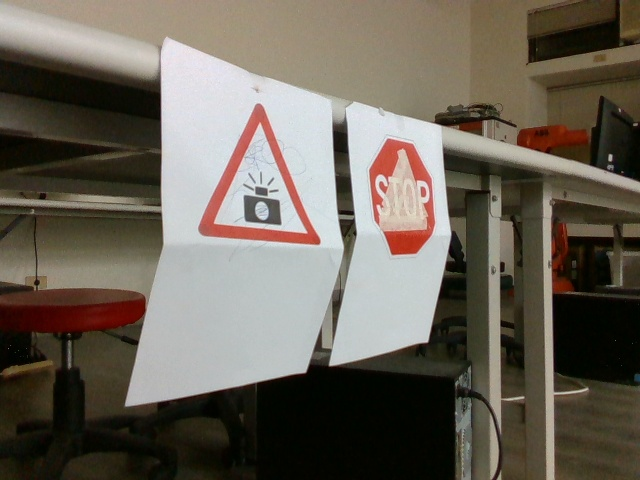camera: (201, 105, 321, 245)
stop: (371, 135, 436, 256)
